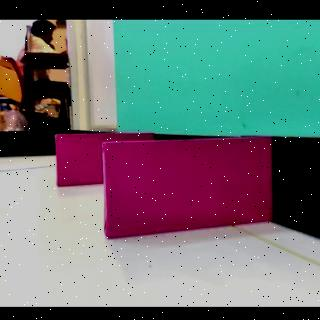xparking: (105, 143, 270, 239), (56, 135, 102, 186)
